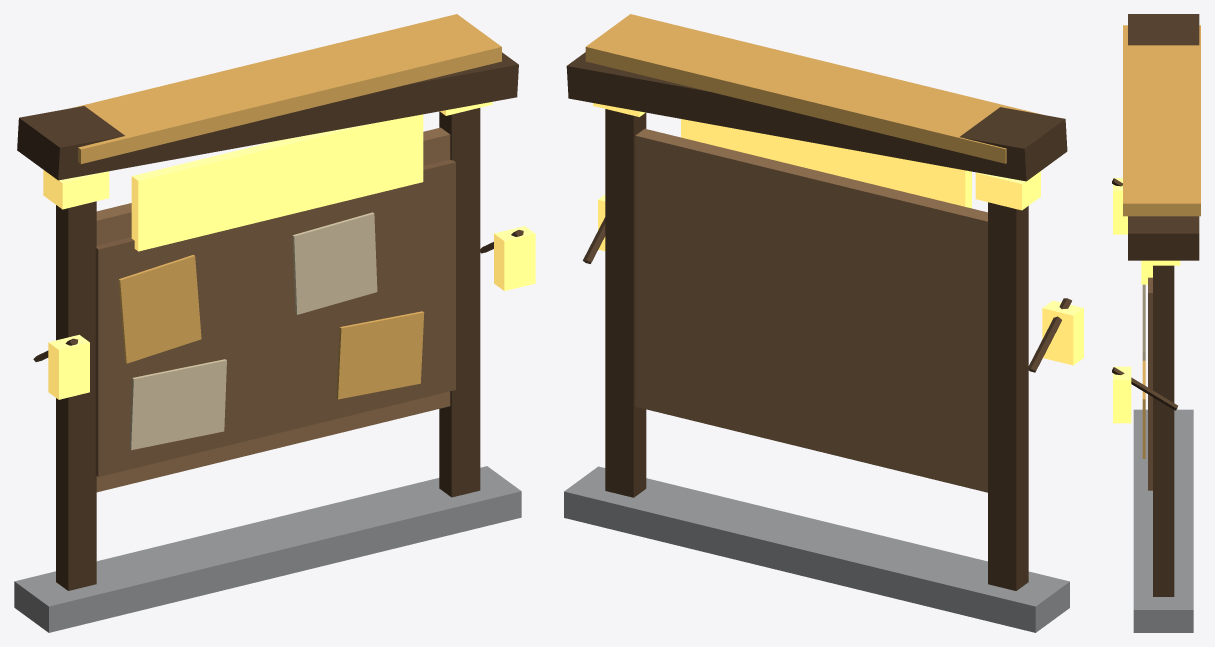
The model's file is jobs_board_amber.lod1.glb.
3 renders of one model, left to right at view 1: azimuth 30°, elevation 25°; view 2: azimuth 150°, elevation 25°; view 3: azimuth 270°, elevation 25°, orthographic. The views are drawn at different scales.
Bounding box in the file's own units: 6.62 × 6.45 × 1.23.
